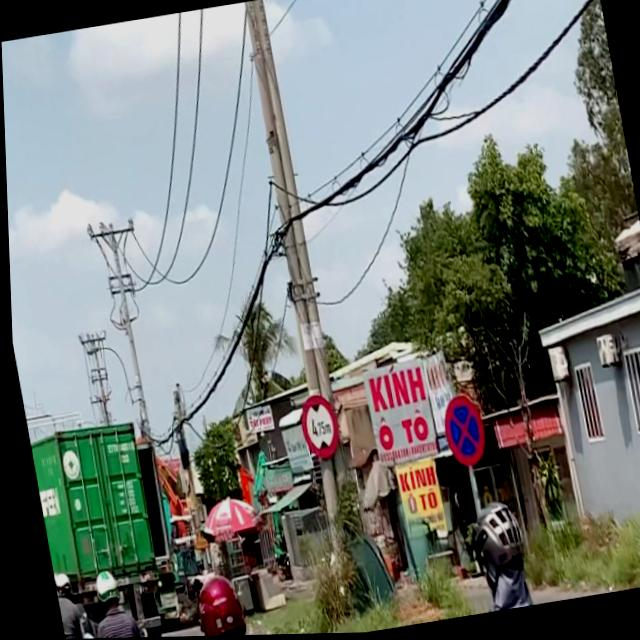Cam dung xe va do xe: (435, 394, 488, 474)
Han che chieu cao: (293, 393, 341, 463)
